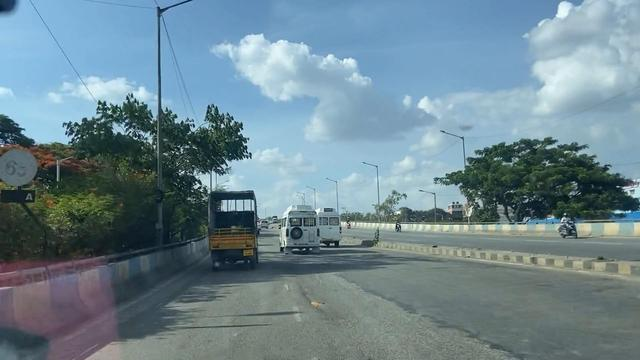HMV: (209, 186, 261, 266), (281, 202, 322, 256)
RoadDamages: (358, 295, 458, 360), (305, 285, 332, 321)
